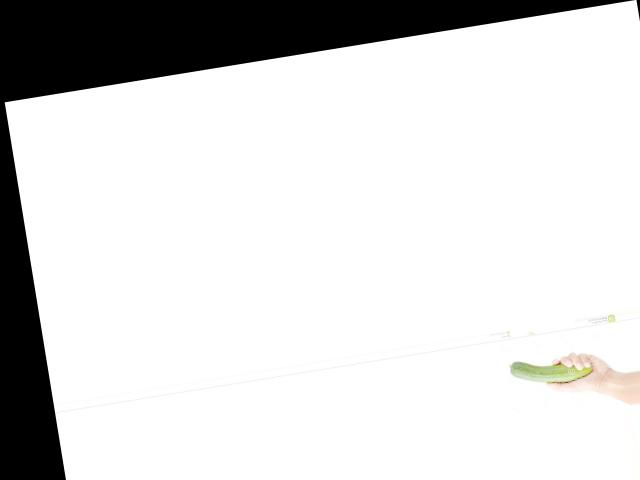cucumber: (508, 349, 593, 389)
